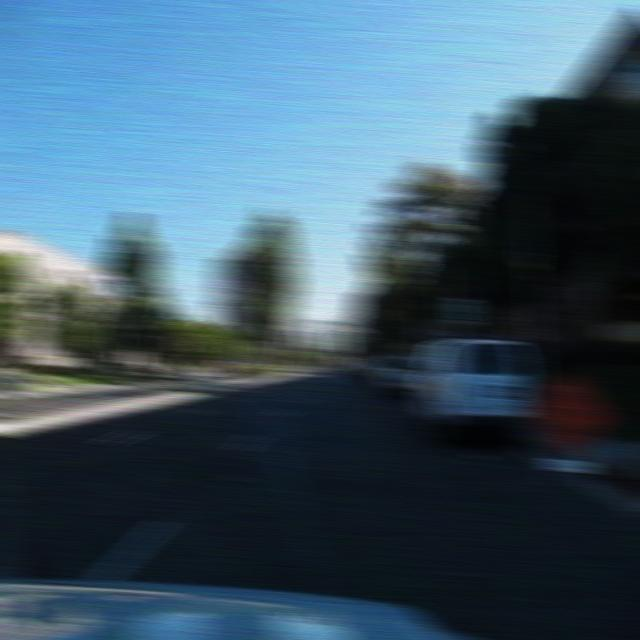speedLimit35: (447, 296, 476, 324), (101, 303, 129, 328)
